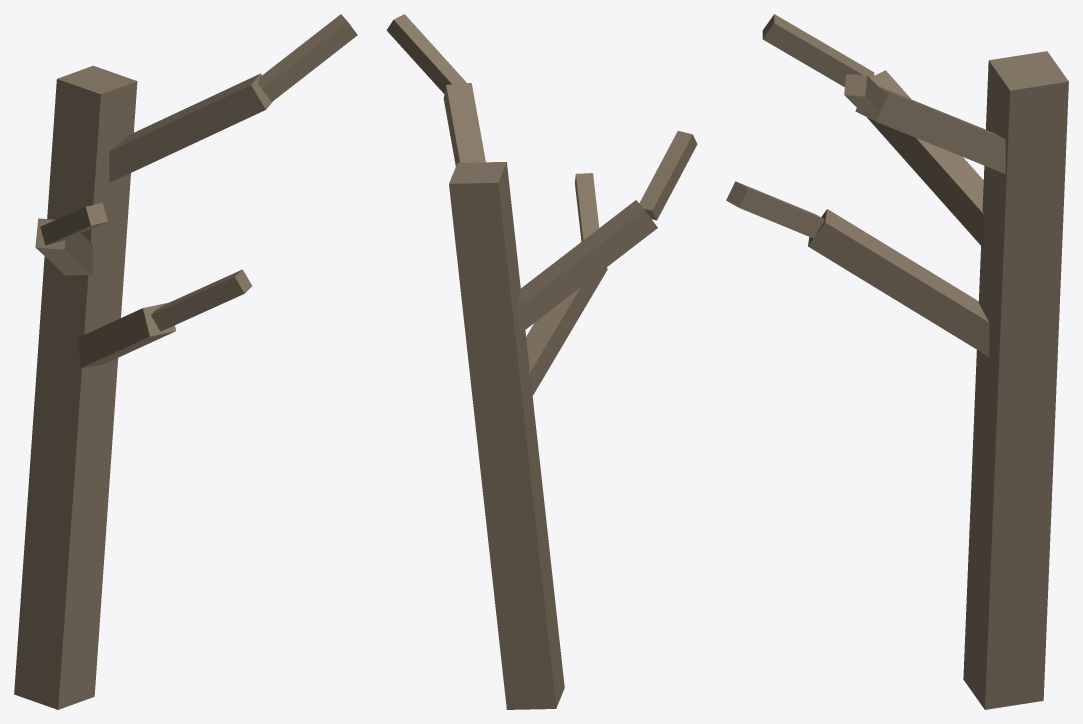
File: dead_tree.fbx
The picture shows the model from 3 angles, left to right: view 1: azimuth 30°, elevation 25°; view 2: azimuth 150°, elevation 25°; view 3: azimuth 270°, elevation 25°; orthographic projection. The views are drawn at different scales.
Parts seen in each view (by area): view 1: dead_tree; view 2: dead_tree; view 3: dead_tree.
Boxes of the visible parts, bbox=[...] form: dead_tree: bbox=[14, 14, 357, 709]; dead_tree: bbox=[386, 14, 697, 709]; dead_tree: bbox=[726, 14, 1068, 709].
Size of the model in its own units: 0.2202 by 0.4548 by 0.1918.
